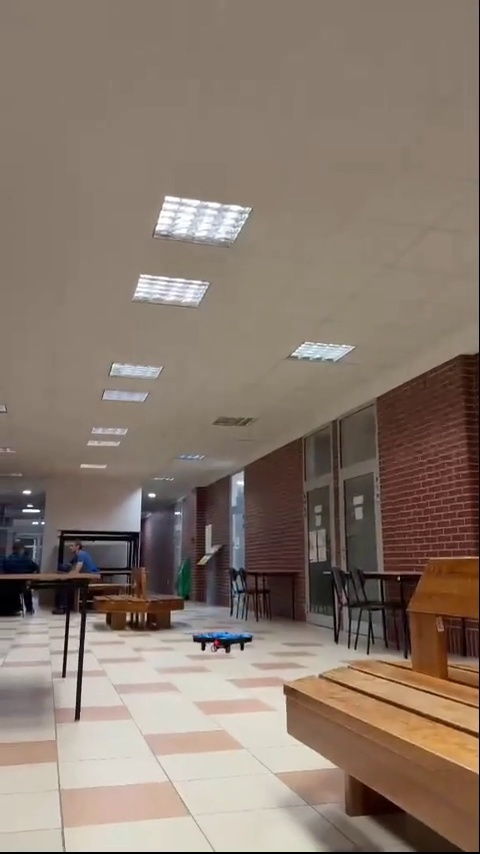drone: (194, 628, 252, 653)
no vest: (57, 539, 98, 614), (2, 536, 38, 614)
